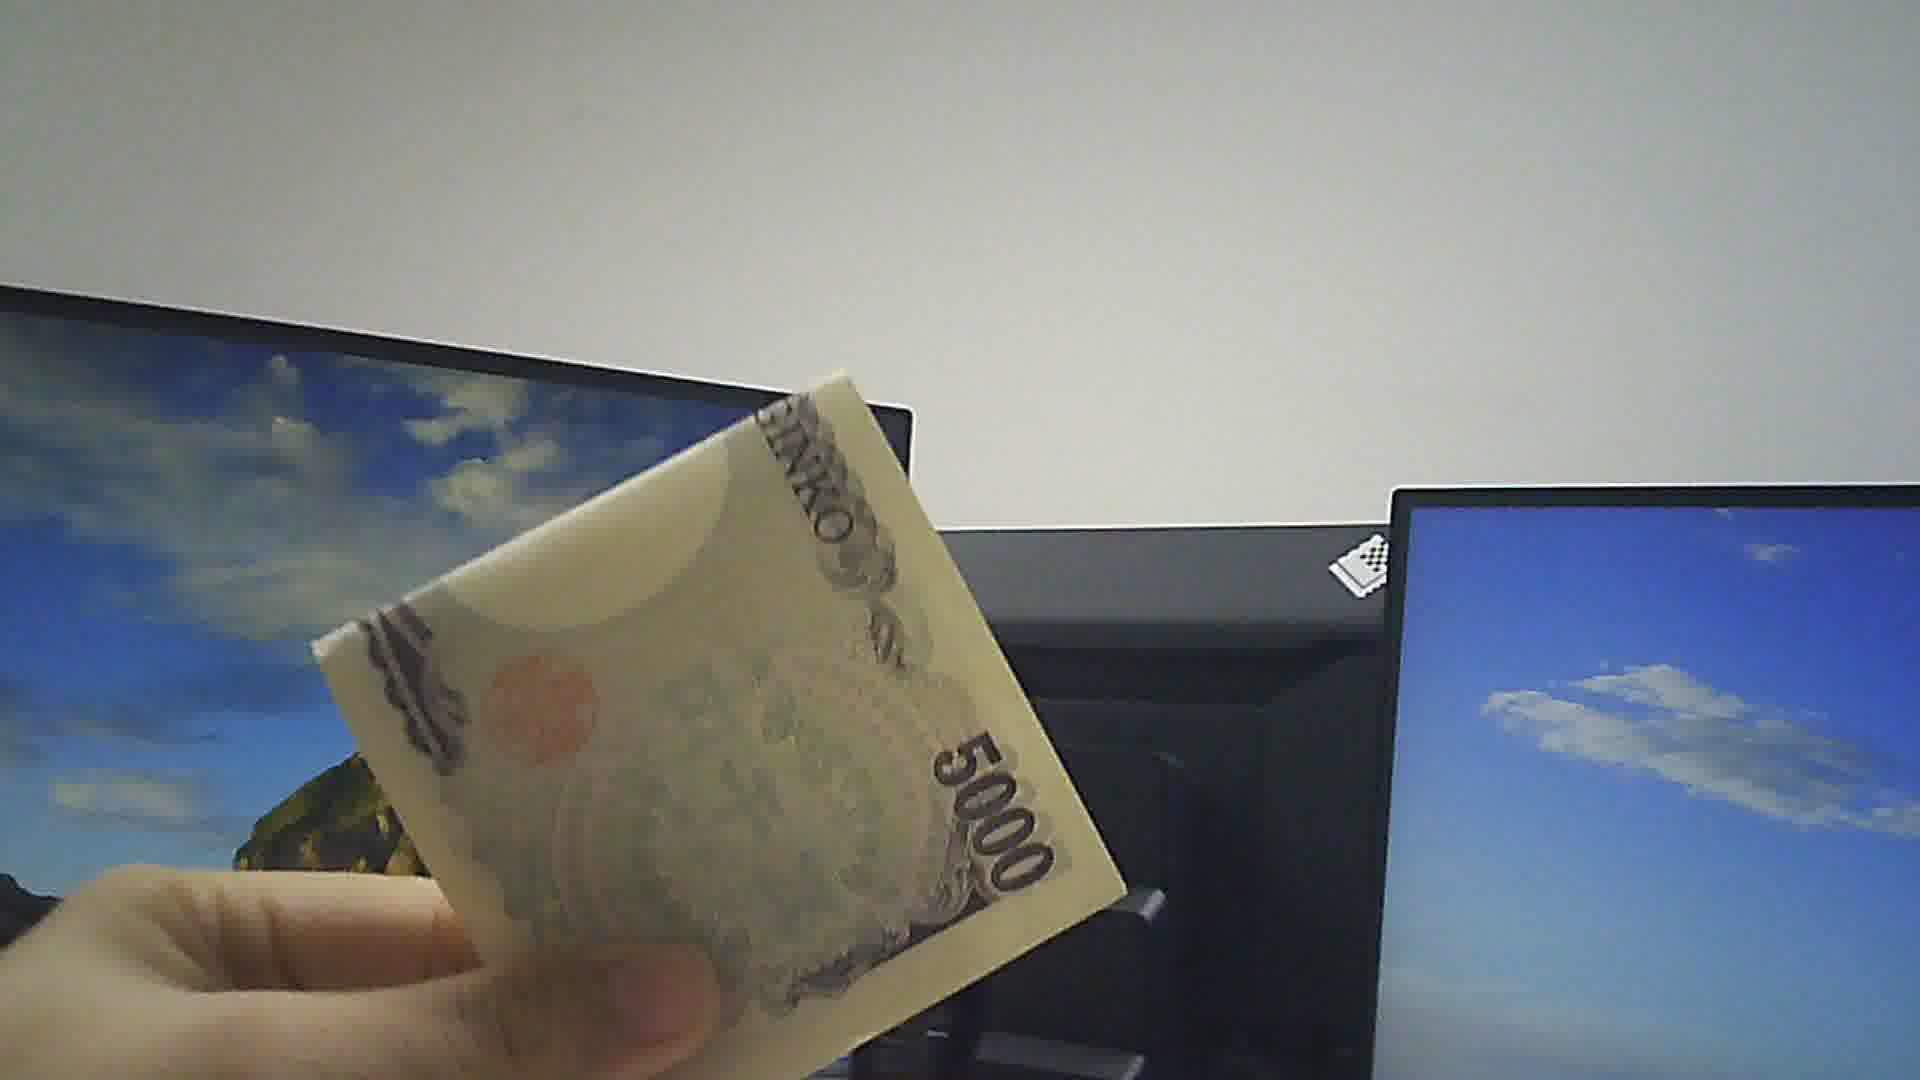5,000 Yen: (302, 345, 1116, 1044)
